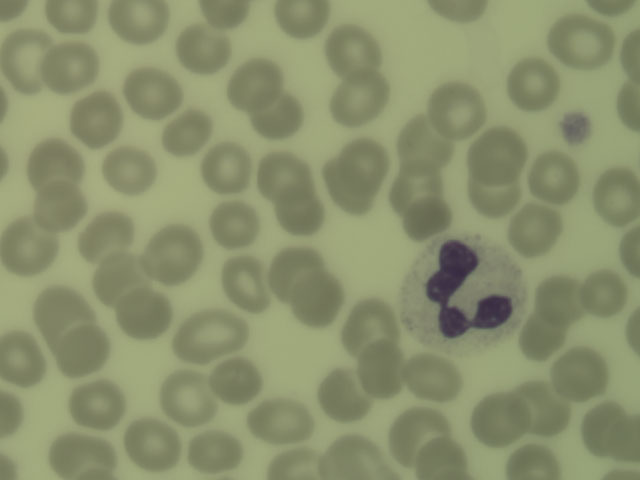Platelets: (559, 110, 592, 145)
RBC: (242, 399, 316, 445), (336, 299, 398, 351), (389, 158, 447, 213), (177, 310, 251, 353), (548, 17, 614, 64), (392, 409, 453, 457), (49, 434, 112, 480), (324, 434, 386, 480), (293, 275, 345, 327), (274, 246, 326, 298), (416, 428, 468, 480), (318, 370, 370, 422), (357, 342, 409, 394), (407, 352, 459, 404), (573, 405, 625, 457), (471, 393, 523, 445), (518, 382, 570, 434), (558, 350, 610, 402), (513, 308, 565, 360), (533, 273, 585, 325), (579, 266, 631, 318), (588, 170, 640, 222), (512, 203, 564, 255), (528, 150, 580, 202), (471, 167, 523, 219), (473, 127, 525, 179), (399, 190, 451, 242), (403, 115, 455, 167), (431, 84, 483, 136), (507, 59, 559, 111), (333, 72, 385, 124), (249, 87, 301, 139), (326, 25, 378, 77), (226, 58, 278, 110), (209, 358, 261, 410), (160, 371, 212, 423), (190, 426, 242, 478), (125, 419, 177, 471), (72, 375, 124, 427), (54, 327, 106, 379), (36, 283, 88, 335), (101, 147, 153, 199), (1, 219, 53, 271), (31, 182, 83, 234), (31, 140, 83, 192), (69, 93, 121, 145), (127, 64, 179, 116), (178, 23, 230, 75), (45, 41, 97, 93), (1, 35, 53, 87), (219, 256, 271, 308), (342, 130, 394, 182), (323, 160, 375, 212), (274, 186, 326, 238), (259, 152, 311, 204), (211, 202, 263, 254), (152, 224, 204, 276), (119, 289, 171, 341), (92, 254, 144, 306), (83, 207, 135, 259), (198, 144, 250, 196), (160, 108, 212, 160), (1, 331, 51, 383), (113, 1, 170, 45), (273, 1, 329, 43), (499, 445, 564, 480), (608, 415, 640, 474), (605, 225, 640, 278), (262, 448, 319, 479), (44, 1, 100, 32), (195, 1, 249, 33), (611, 77, 640, 133), (1, 385, 29, 442), (430, 2, 489, 22), (620, 24, 640, 78)
WBC: (401, 236, 525, 351)
